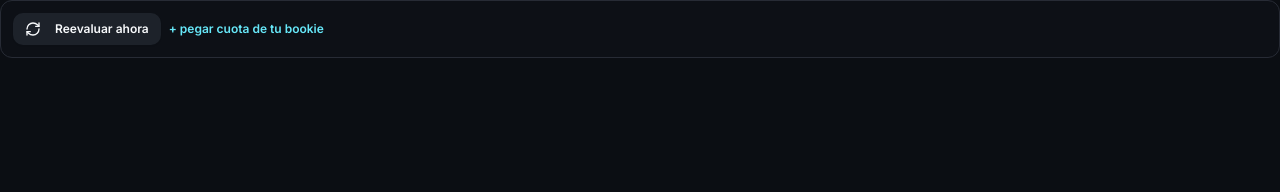
LiveReevalPanel football markets › toggle exposes the manual form when clicked
This screenshot has width=1280, height=192.
Click the button with test id "reeval-toggle-manual-m-77". click: point(246, 29)
box: x1=169 y1=21 x2=324 y2=37
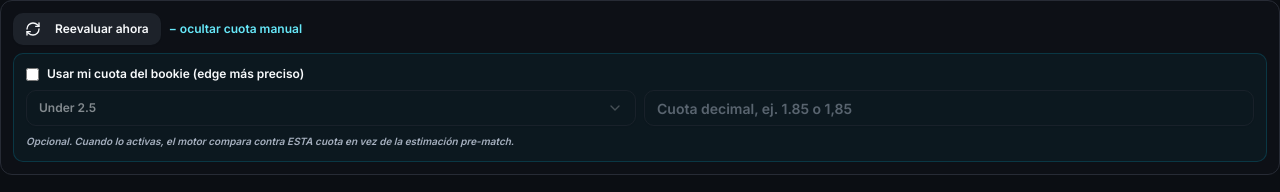
Now the element with test id "reeval-manual-form-m-77" is shown, box x1=13 y1=53 x2=1267 y2=162
Now the dropdown with test id "reeval-market-select-m-77" is shown, box x1=26 y1=90 x2=636 y2=126
